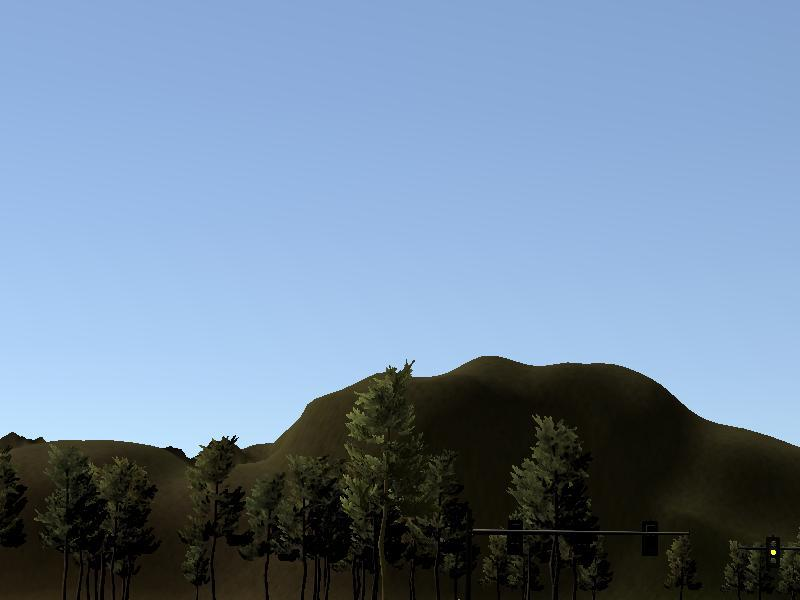Yellow: (767, 537, 780, 568)
